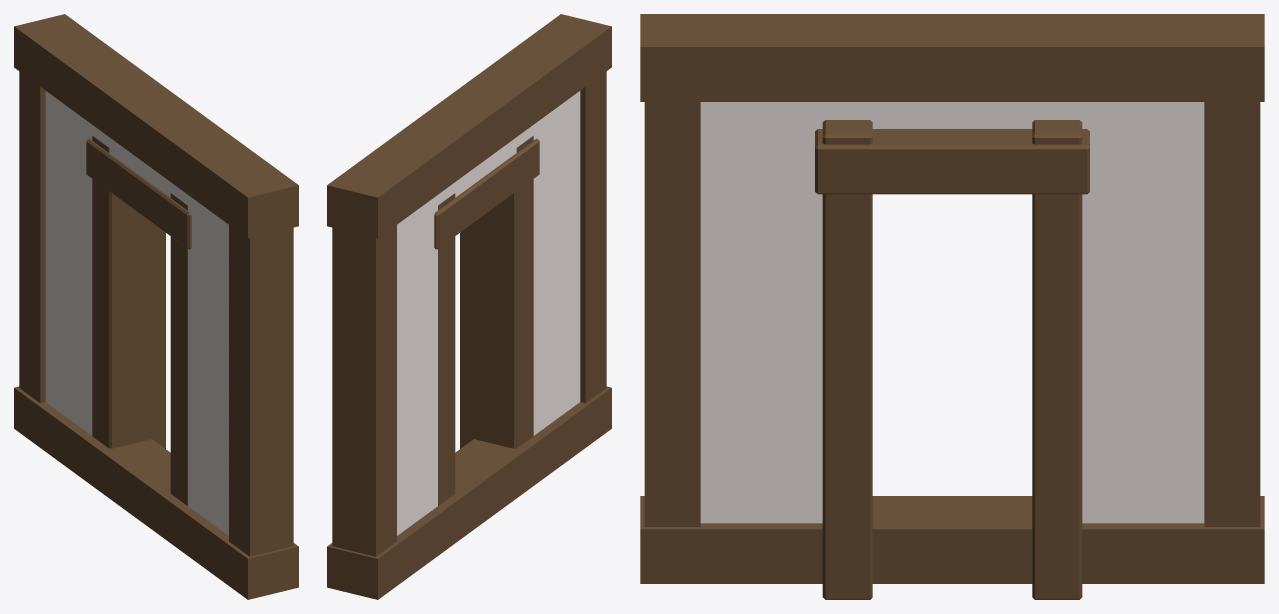
The model's file is Wall02.fbx.
3 views of the same model, side by side, from view 1: azimuth 30°, elevation 25°; view 2: azimuth 150°, elevation 25°; view 3: azimuth 270°, elevation 25° (orthographic). The views are drawn at different scales.
Parts seen in each view (by area): view 1: plank.008; view 2: plank.008; view 3: plank.008.
Part boxes in pixels (box(x1,y1,x2,y2)): plank.008: box(14, 14, 298, 599); plank.008: box(327, 14, 611, 599); plank.008: box(640, 14, 1264, 599).
Bounding box in the file's own units: 38.03 × 215 × 223.
